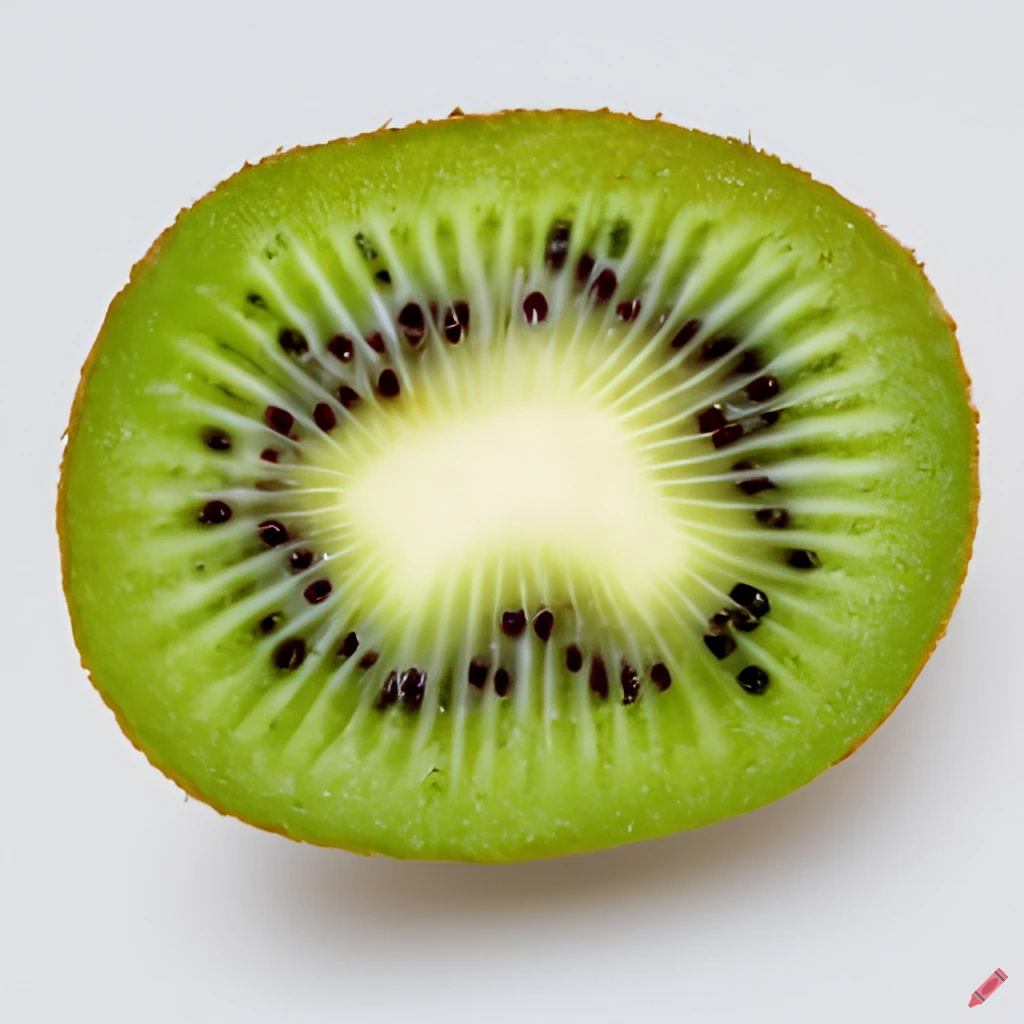Kiwi: (14, 90, 994, 898)
